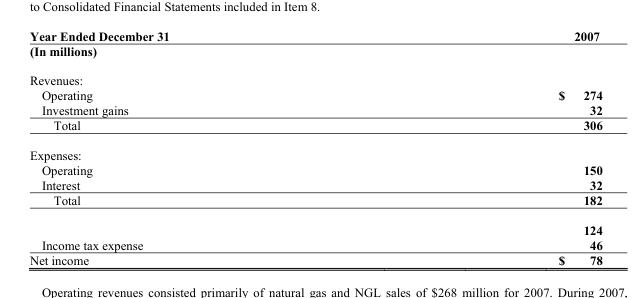table: (28, 28, 601, 266)
table column: (28, 28, 363, 266), (363, 28, 601, 266)
table projected row header: (28, 139, 601, 162), (28, 43, 601, 65), (28, 65, 601, 87)
table row: (28, 139, 601, 162), (28, 191, 601, 214), (28, 43, 601, 65), (28, 65, 601, 87), (28, 117, 601, 139), (28, 214, 601, 236), (28, 236, 601, 252), (28, 28, 601, 43), (28, 87, 601, 102), (28, 102, 601, 117), (28, 176, 601, 191), (28, 162, 601, 176), (28, 252, 601, 266)
